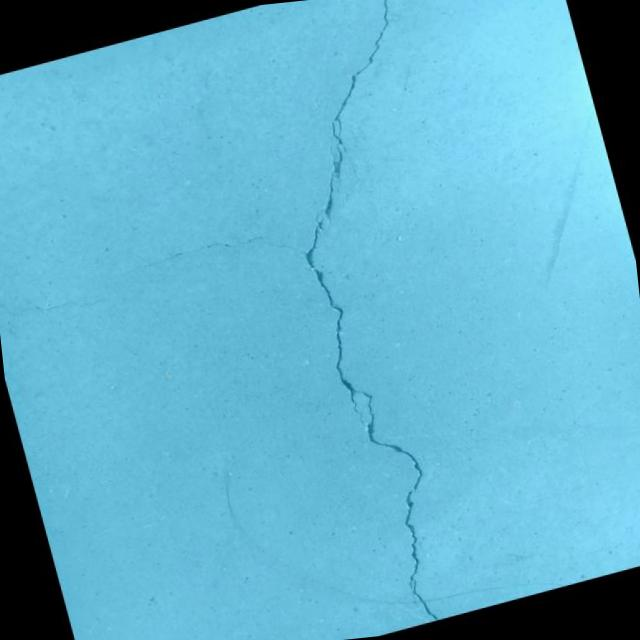crack: (56, 0, 551, 640), (0, 268, 127, 333), (402, 23, 432, 86)
